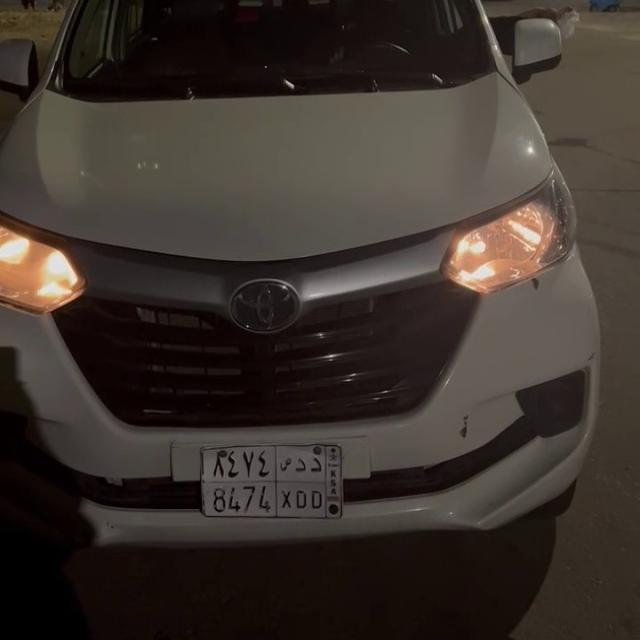Car-plate: (191, 428, 361, 534)
